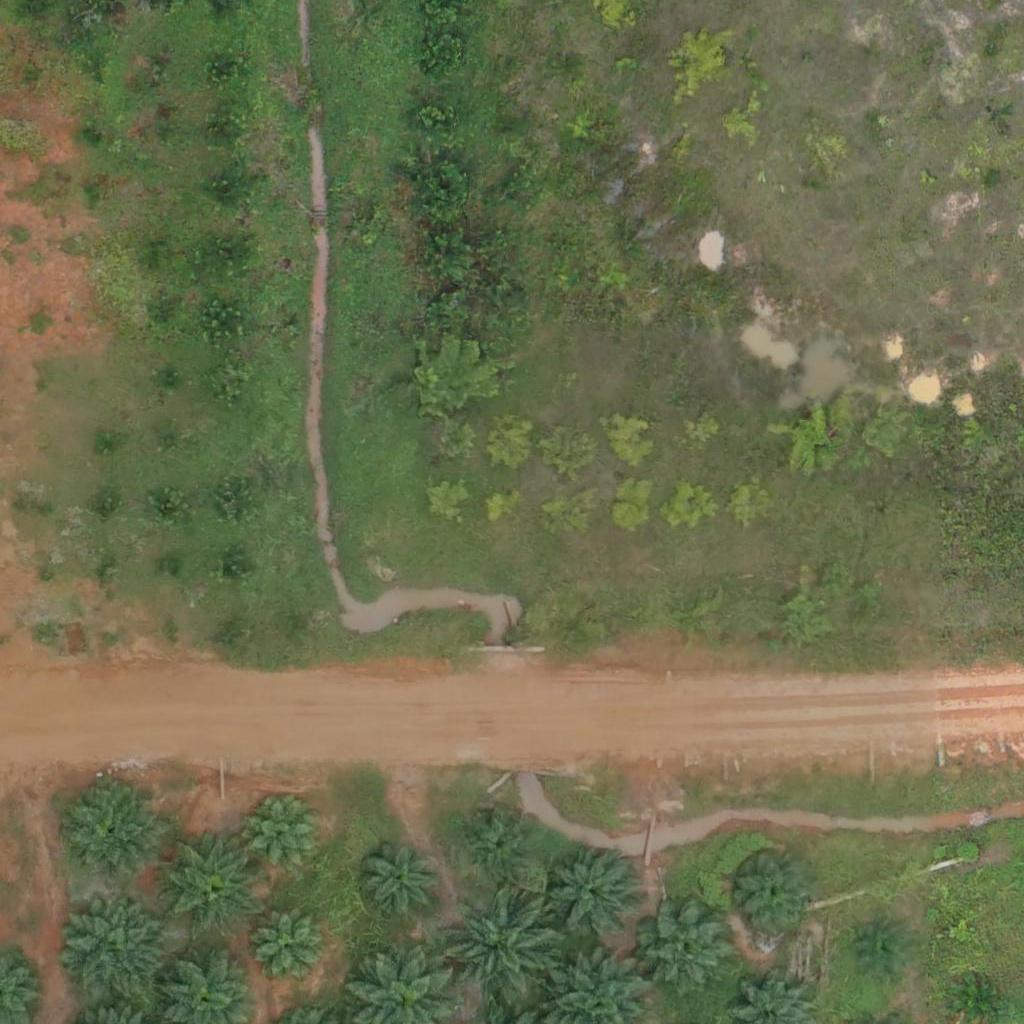Kelapa_Sawit: (447, 878, 572, 1003), (62, 895, 175, 1009), (63, 782, 163, 883), (161, 833, 261, 934), (551, 852, 639, 940), (358, 838, 445, 927), (246, 791, 333, 879), (642, 906, 729, 994), (737, 852, 812, 928), (251, 908, 326, 983), (471, 815, 533, 878), (858, 928, 908, 978)
